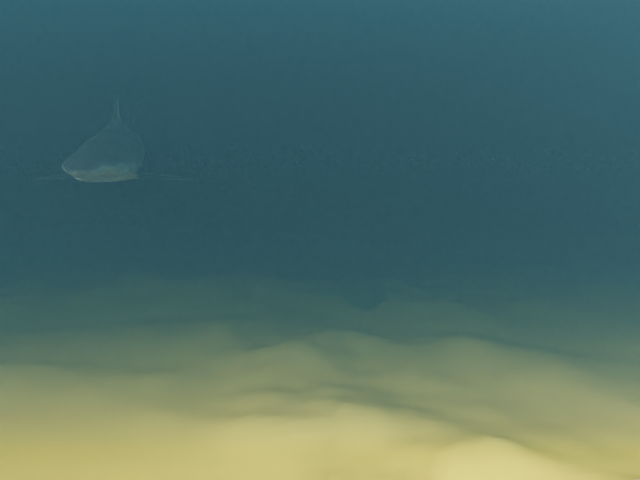Carribean Shark.001: (32, 92, 202, 182)
